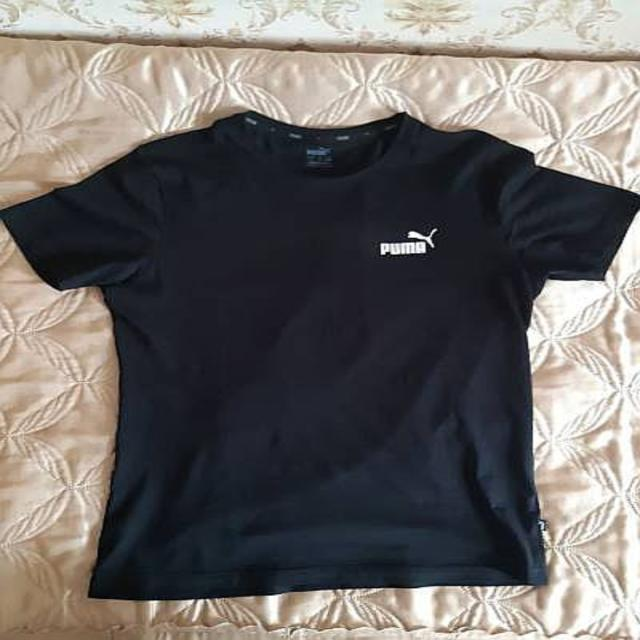T_SHIRT: (0, 101, 640, 606)
